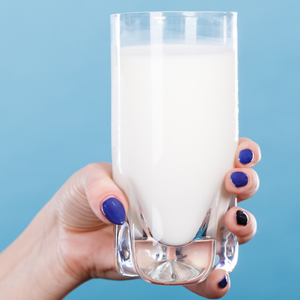glass of milk: (109, 13, 241, 278)
